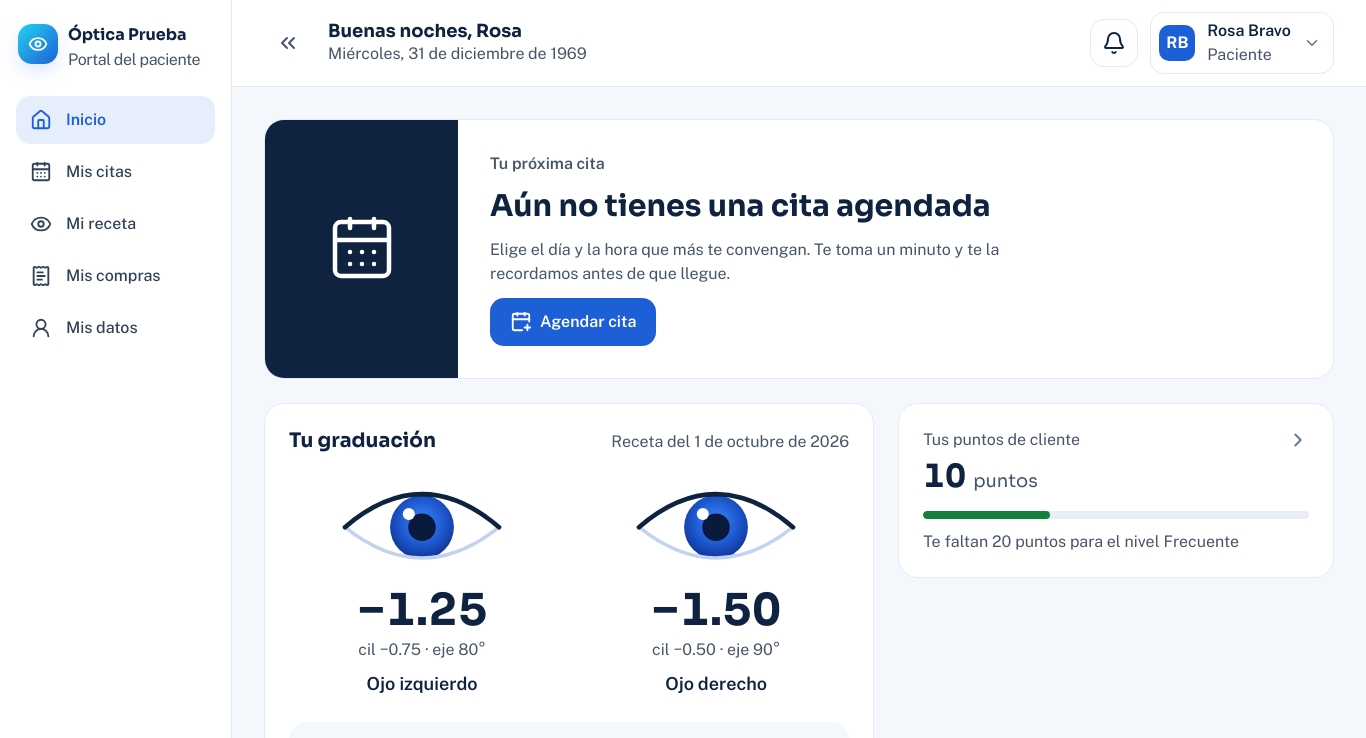
Agendar cita › no pide el paciente y el motivo se elige con el selector del sistema (no la lista nativa)
Click the button "Agendar cita": (573, 322) [490,298,656,346]
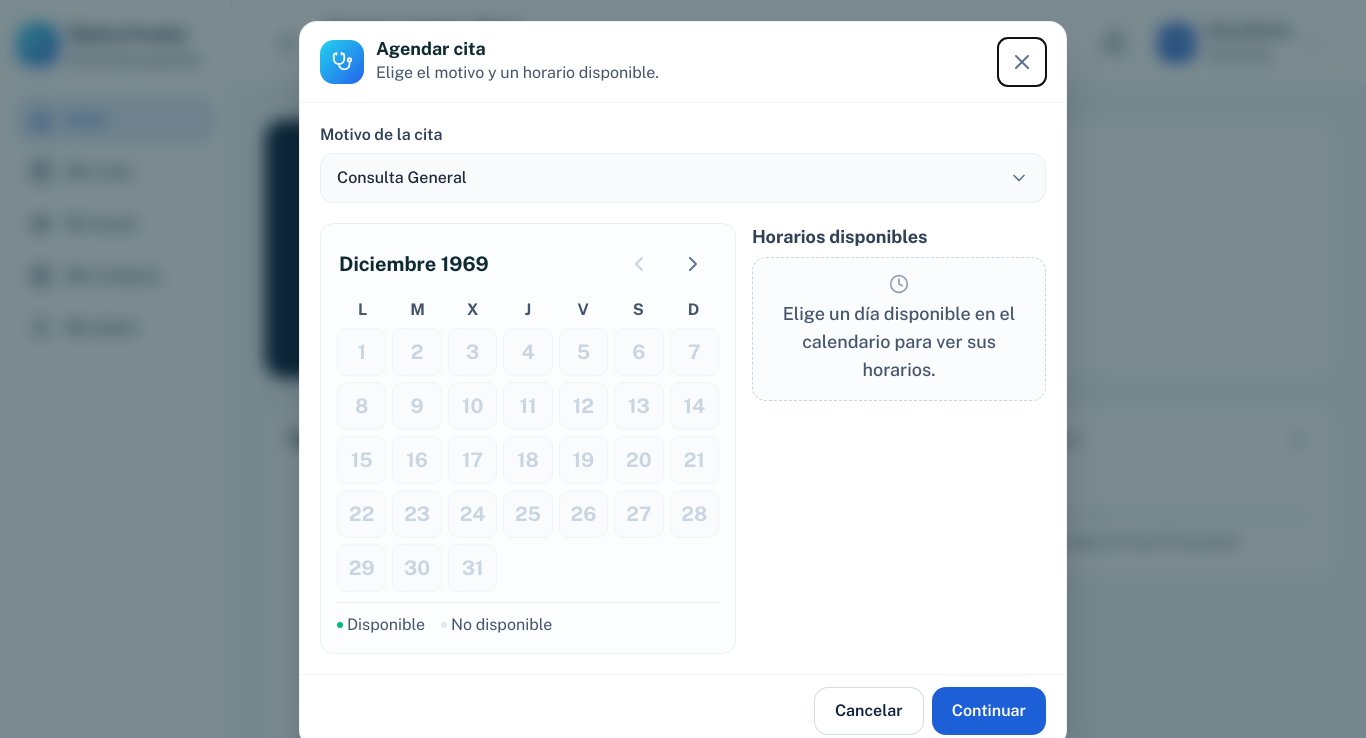
Click the dropdown named "Motivo de la cita": (402, 177) [320,152,1046,202]
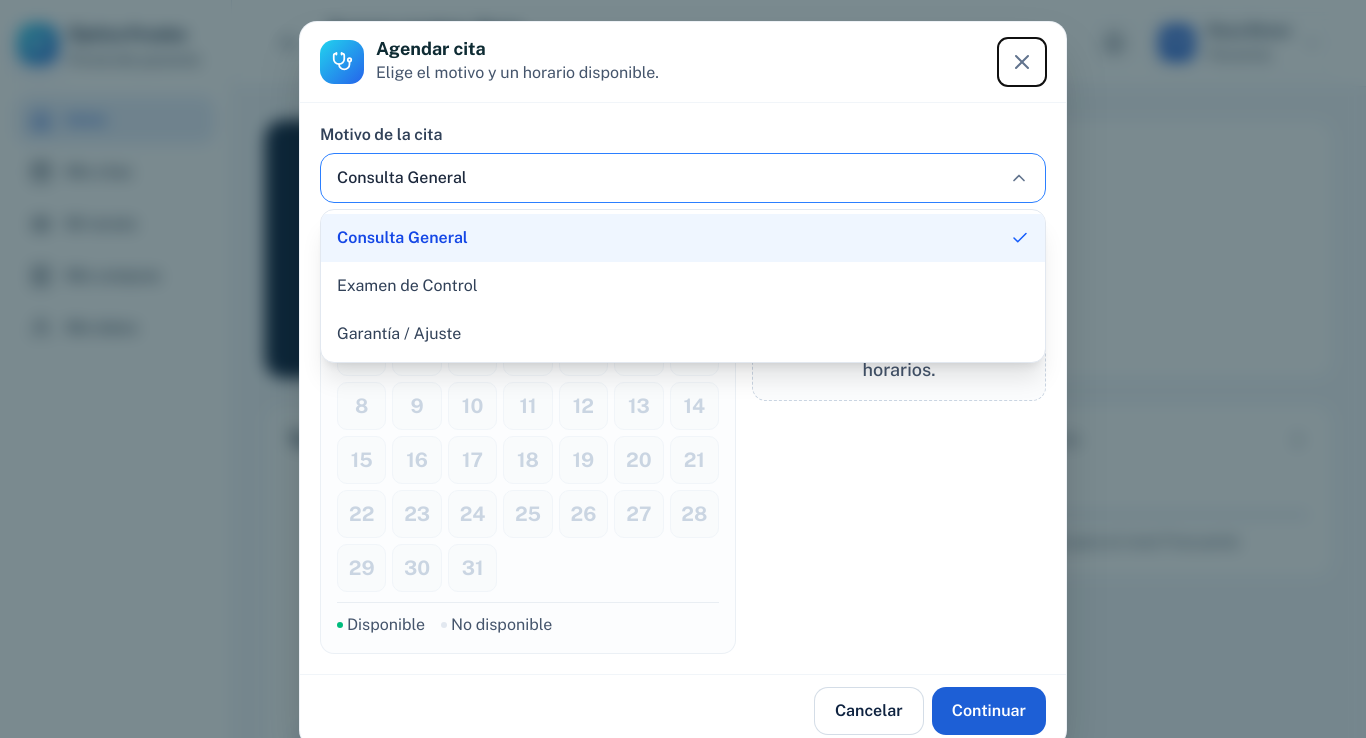
Click the option "Examen de Control": (407, 285) [321,262,1045,310]
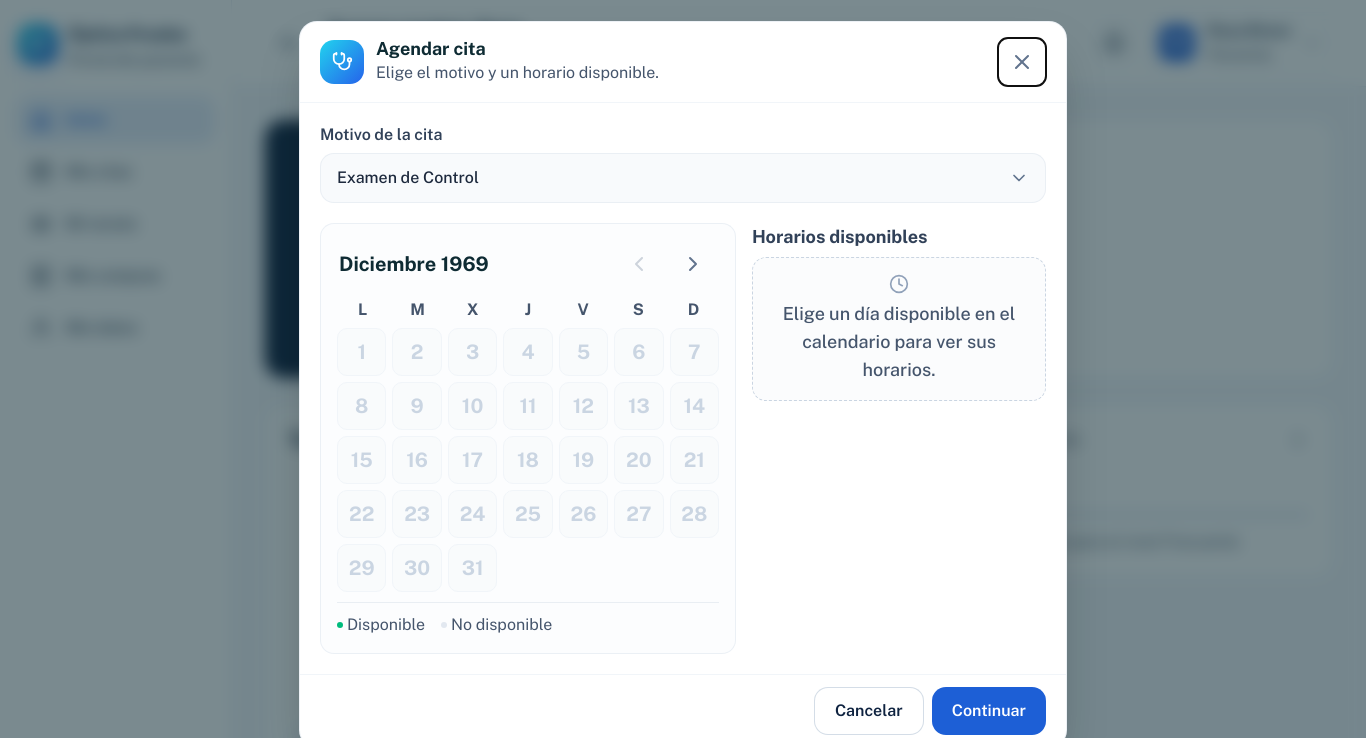
Result: the dropdown named "Motivo de la cita" reads "Examen de Control" at [320,152,1046,202]
